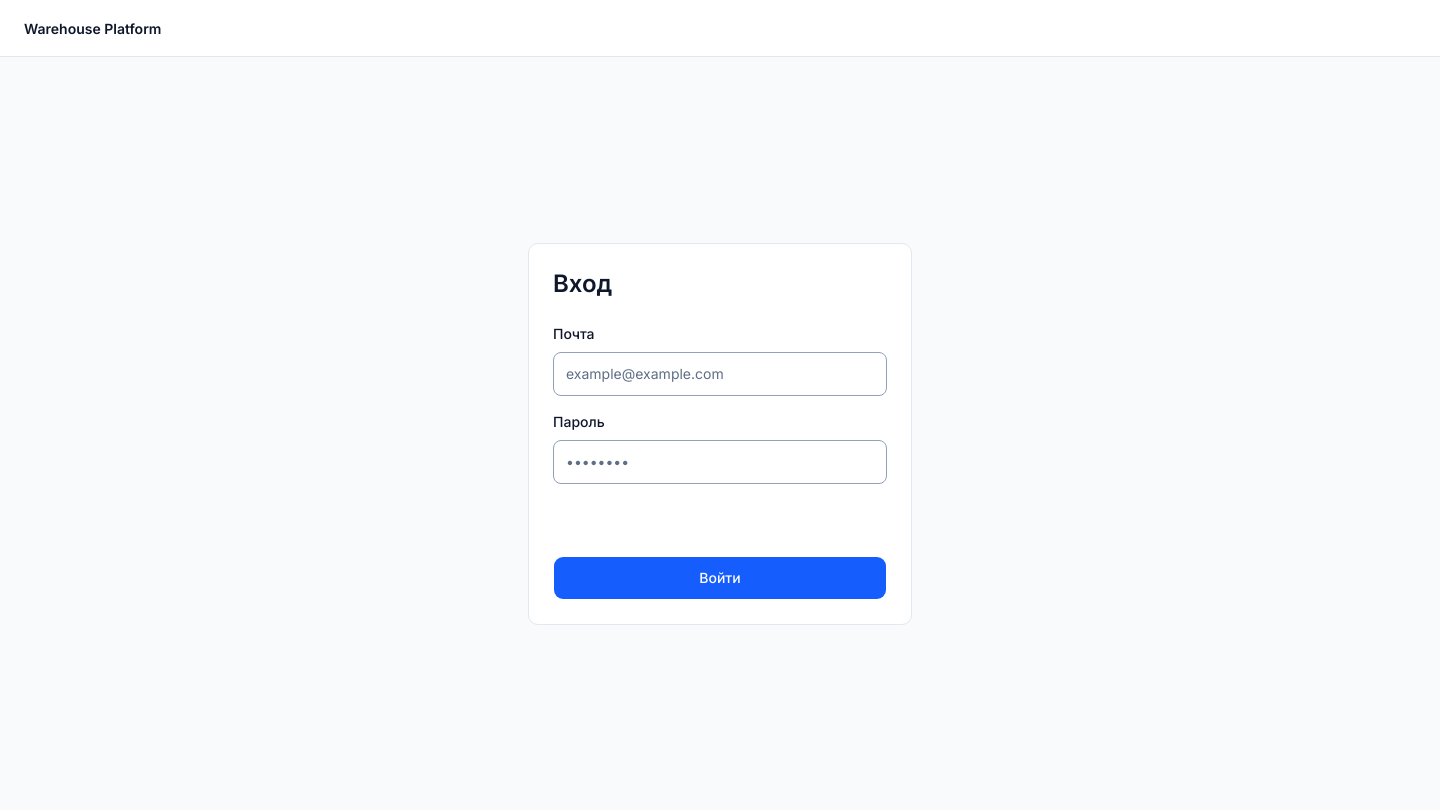
Test: LoginPage › показывает ошибку, если пароль пустой, а почта заполнена
This screenshot has width=1440, height=810.
Type "user@example.com" into the field labelled "Почта" at {"x": 720, "y": 374}, box x1=553 y1=352 x2=887 y2=396
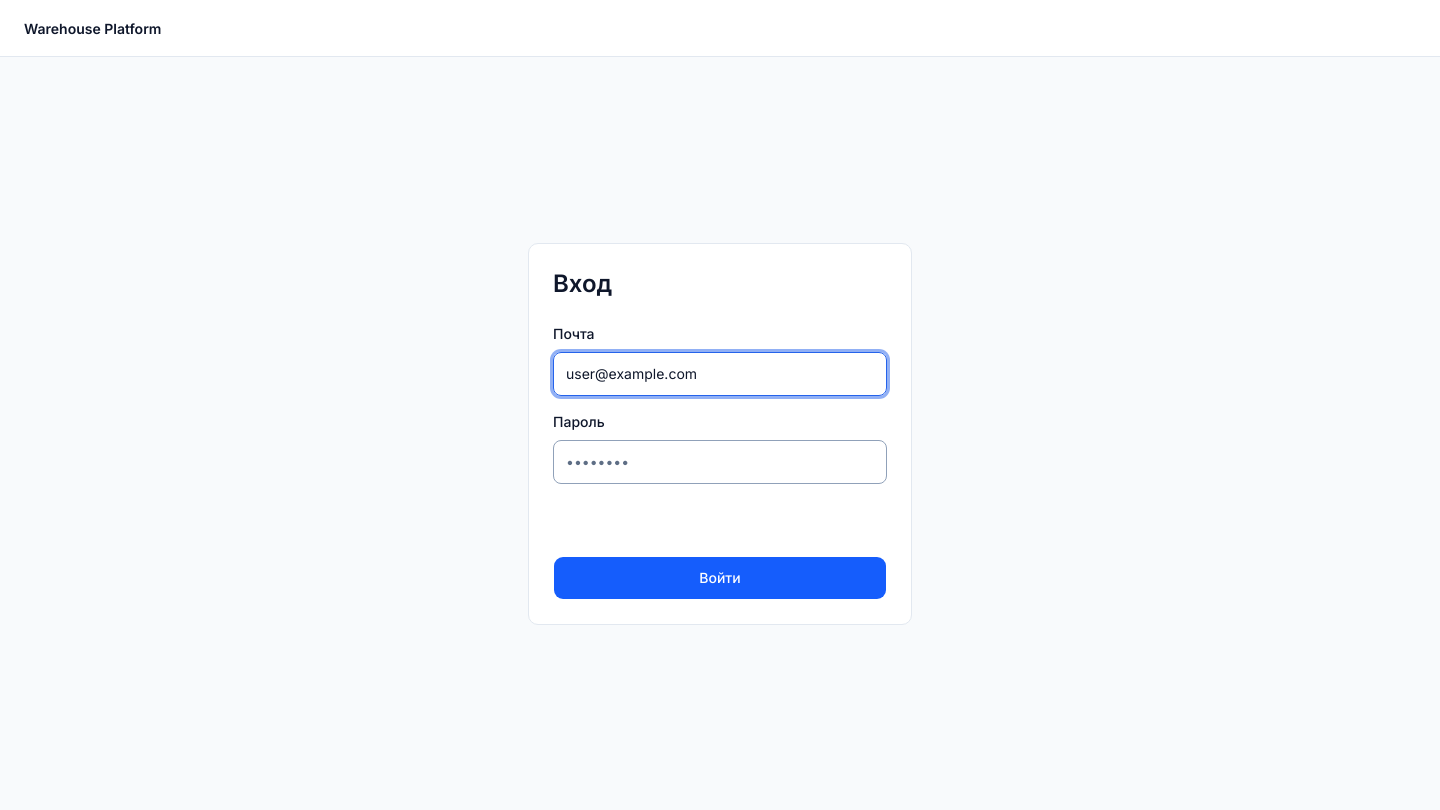
Click the button "Войти" at {"x": 720, "y": 578}, box x1=553 y1=556 x2=887 y2=600
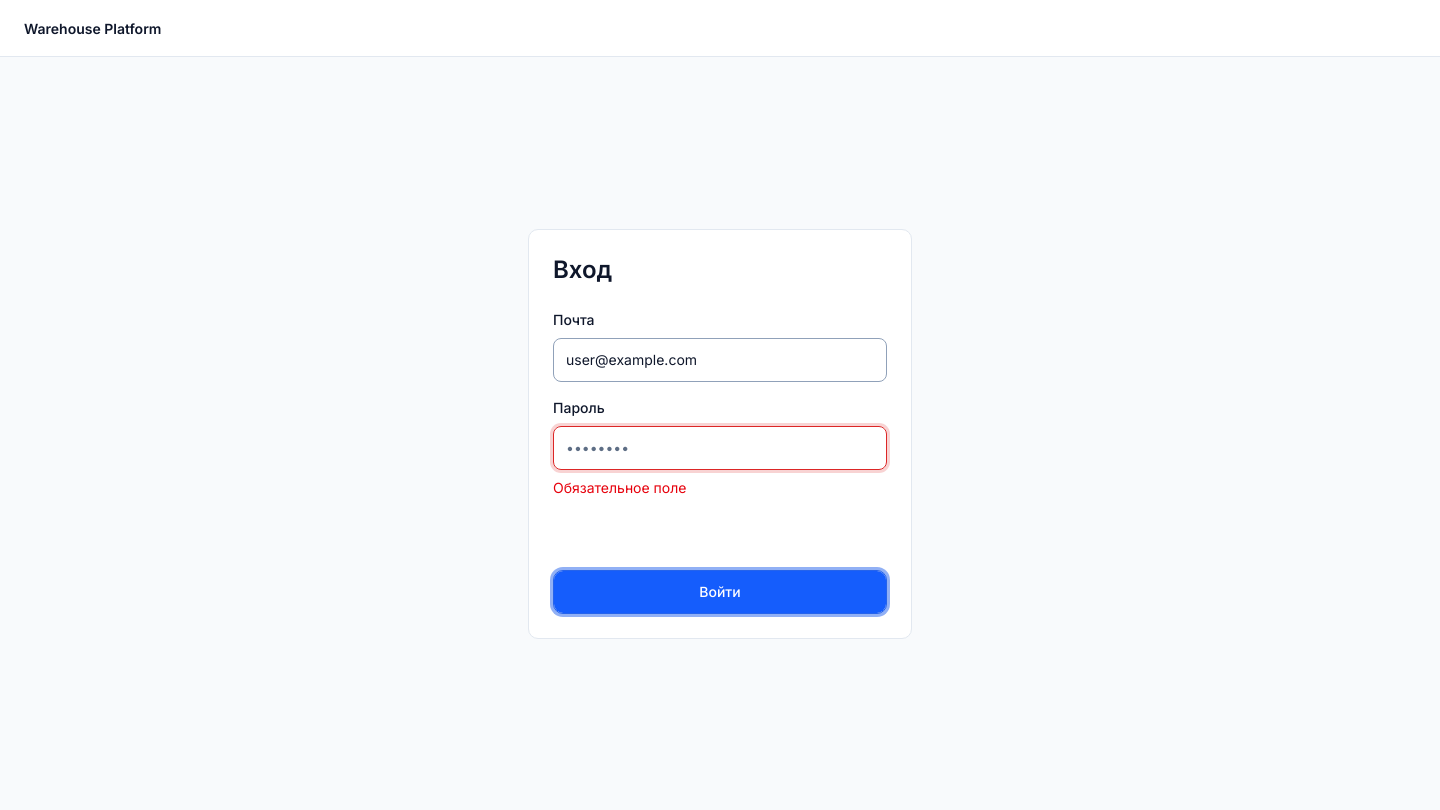
Expected: the password field labelled "Пароль" is marked as invalid, x1=553 y1=426 x2=887 y2=470
